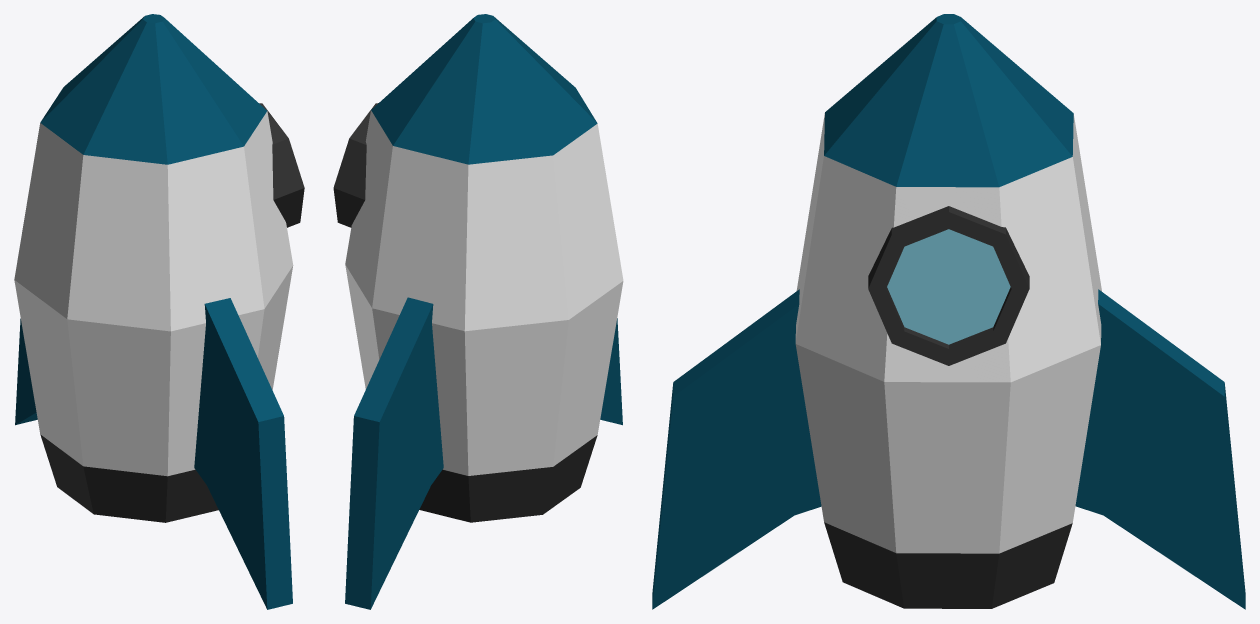
Rendered from Rocket.glb.
The picture shows the model from 3 angles, left to right: view 1: azimuth 30°, elevation 25°; view 2: azimuth 150°, elevation 25°; view 3: azimuth 270°, elevation 25°; orthographic projection. The views are drawn at different scales.
Parts seen in each view (by area): view 1: Cylinder; view 2: Cylinder; view 3: Cylinder.
Boxes of the visible parts, left/top/right/bottom form: Cylinder: left=14, top=14, right=304, bottom=609; Cylinder: left=333, top=14, right=623, bottom=609; Cylinder: left=652, top=14, right=1245, bottom=609.
Size of the model in its own units: 0.5036 by 1 by 0.9269.
